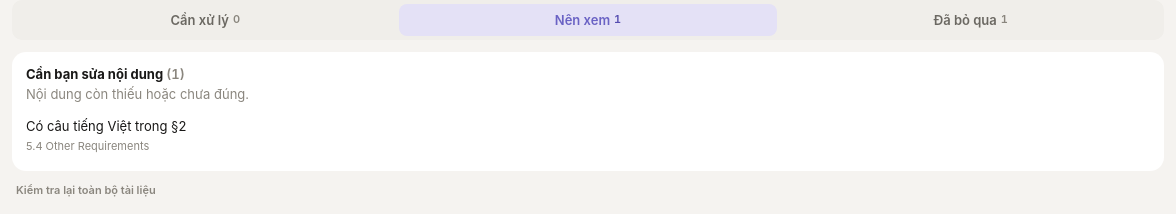
Test: FlagsPanel › tab Nên xem hiện cờ vàng, tab Đã bỏ qua hiện lý do
Expected: the text "Có câu tiếng Việt trong §2" is shown, [26,116,196,137]
What coordinates should you click on to do the following:
click the tab "Đã bỏ qua 1"
I would click on:
 (971, 20)
Its box is [781,4,1160,36].
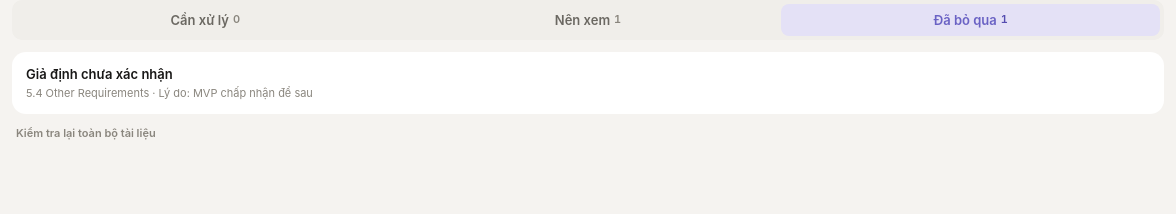
Expected: the text "5.4 Other Requirements · Lý do: MVP chấp nhận để sau" is shown, [26,86,313,100]
